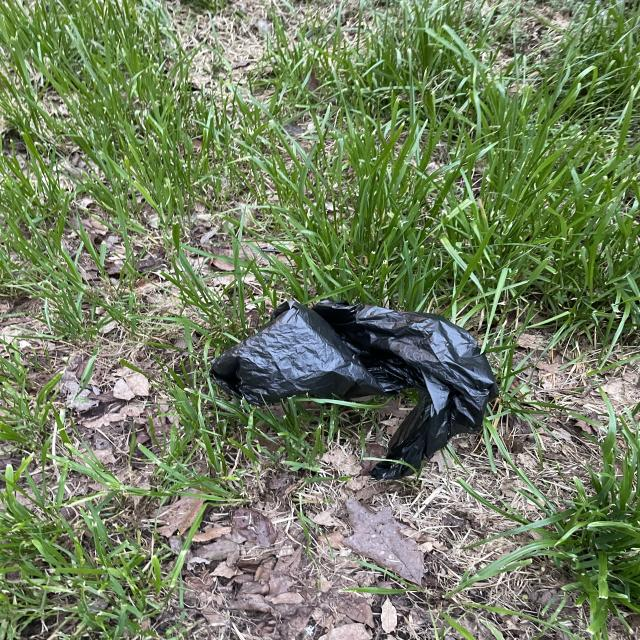plastic: (209, 295, 505, 485)
trash-zQNu: (210, 297, 498, 492)
